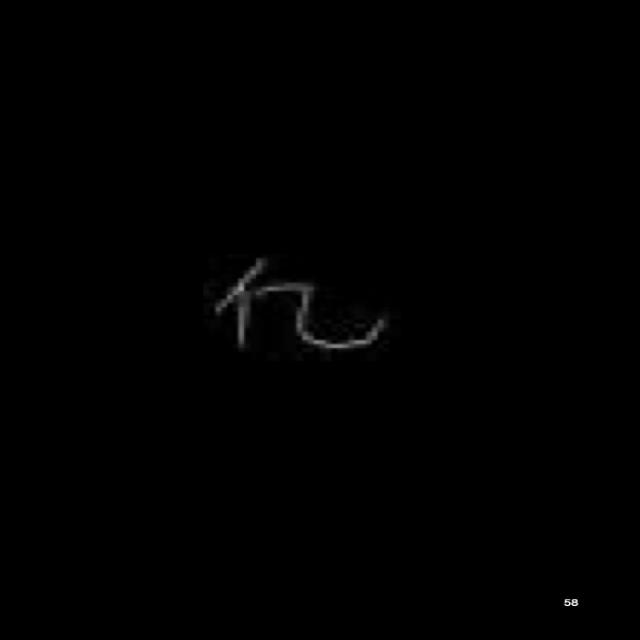100000 -a hundred thousand-: (196, 249, 392, 357)
